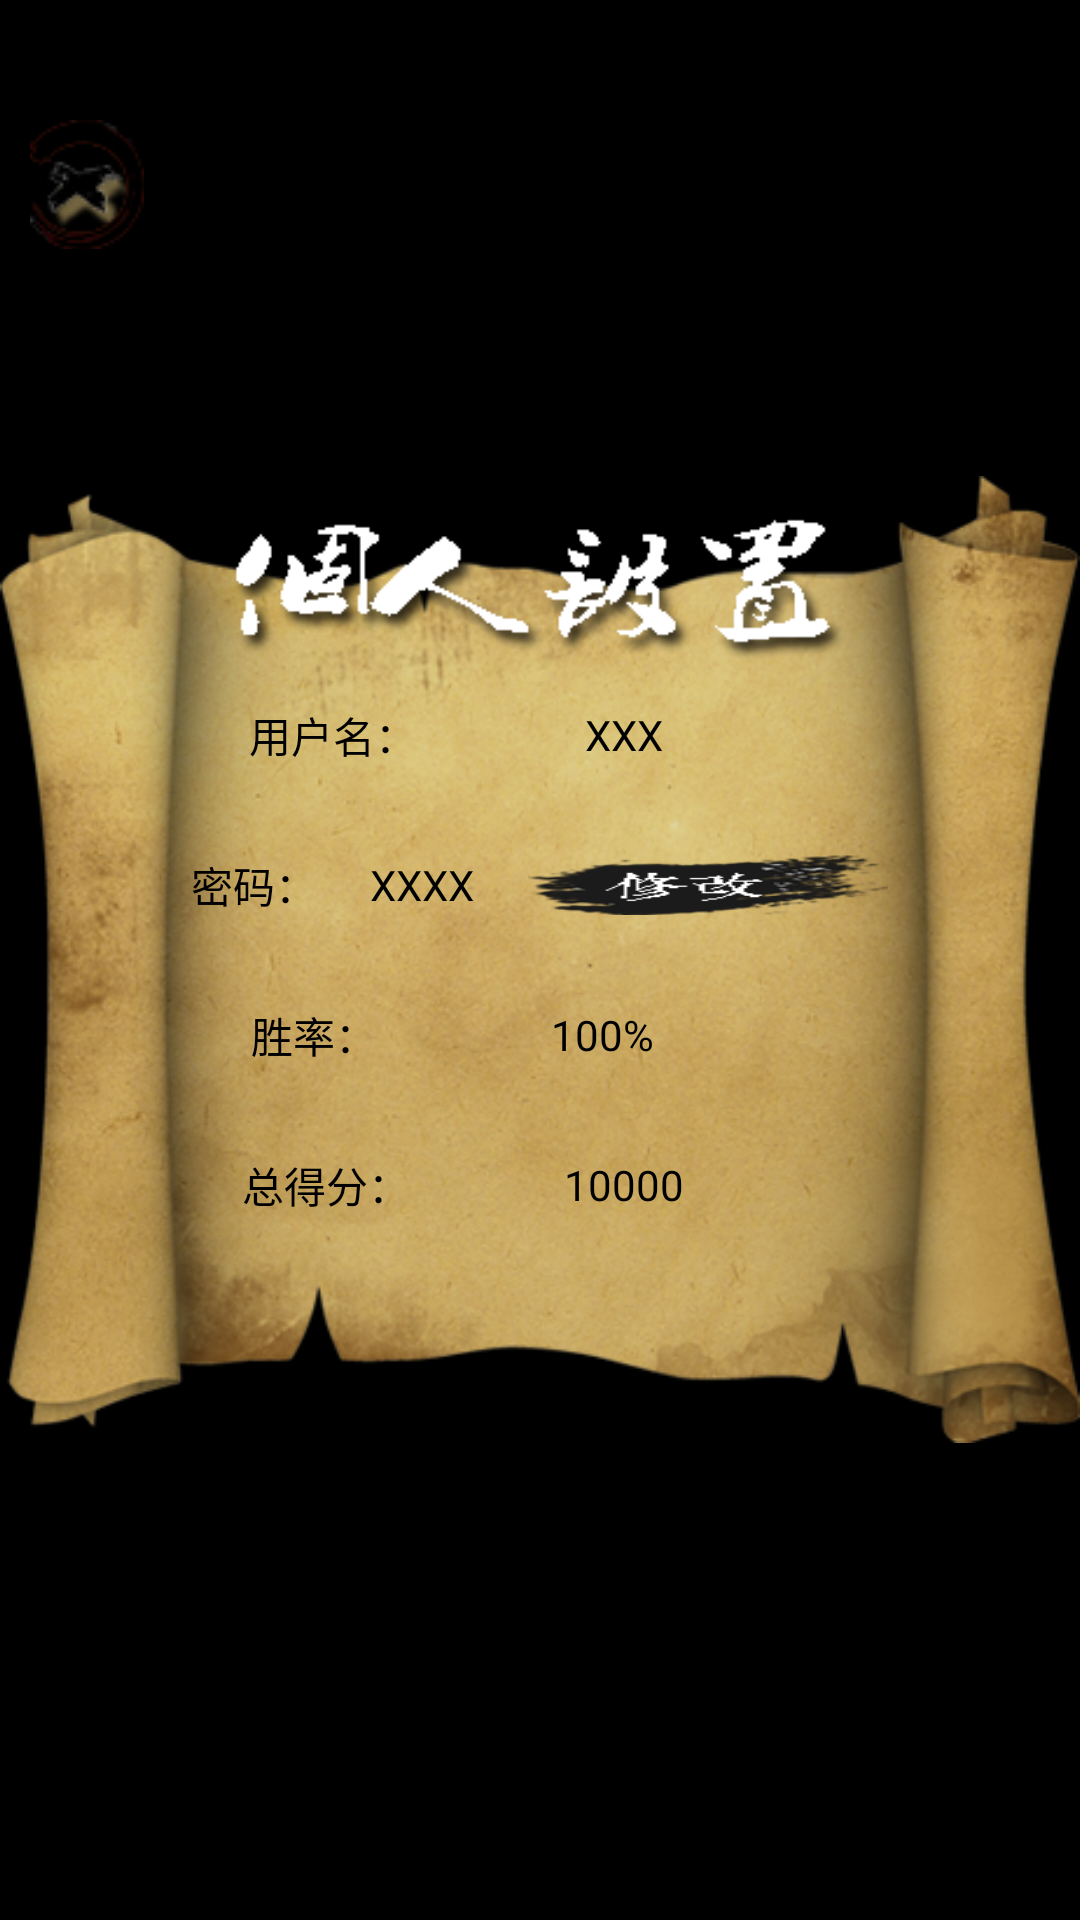

Where icons sit on this 1080w x 1920h app screen, as (x1, y1, x2, y2):
closewin: (30, 120, 144, 249)
